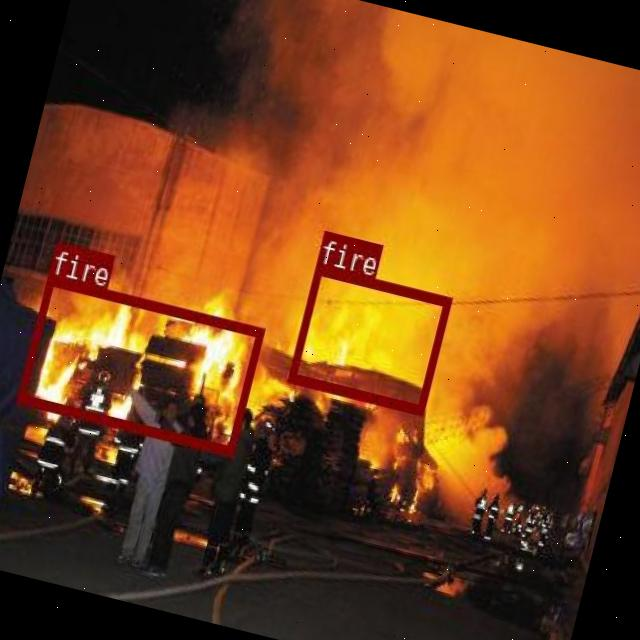fire: (15, 274, 264, 454), (286, 264, 450, 414)
